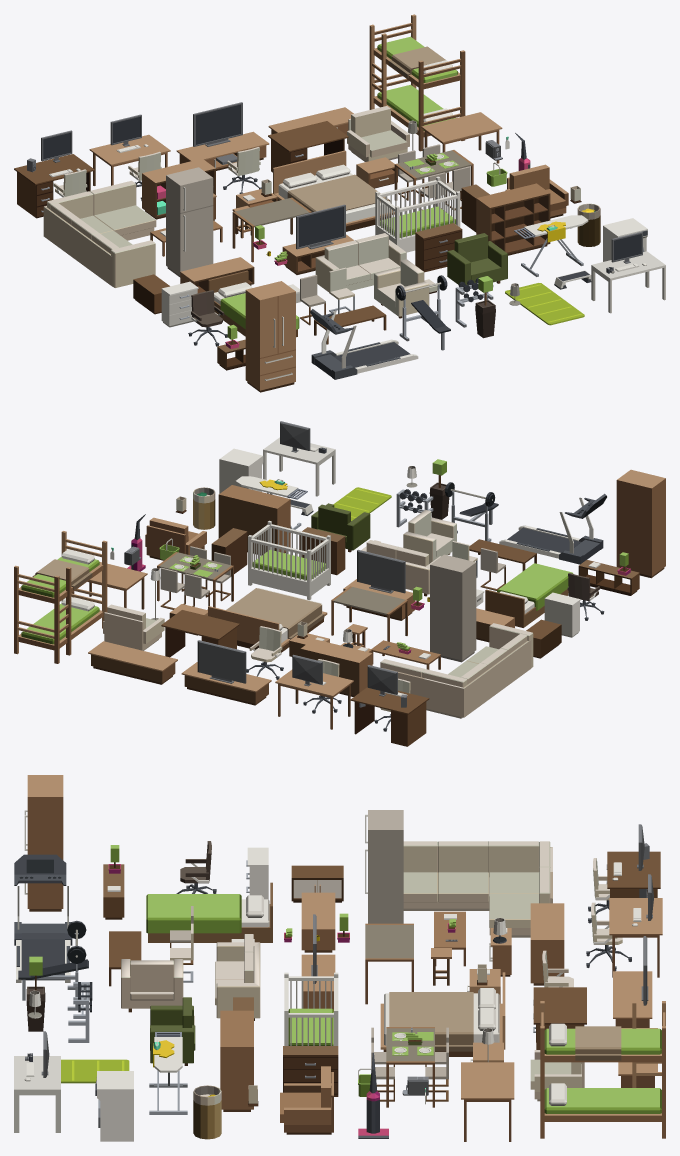
File: room.glb
3 views of the same model, one above another, from view 1: azimuth 30°, elevation 25°; view 2: azimuth 150°, elevation 25°; view 3: azimuth 270°, elevation 25° (orthographic). The views are drawn at different scales.
Visible parts, largest first — view 1: Object128; view 2: Object128; view 3: Object128.
Part boxes in pixels (box(x1,y1,x2,y2)): Object128: box(14, 14, 665, 392); Object128: box(14, 421, 665, 746); Object128: box(14, 775, 665, 1141).
Bounding box in the file's own units: 8.32 × 1.76 × 8.99.
Materials: 1 (1 with a texture image).
